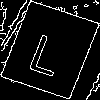L: (25, 25, 71, 77)
